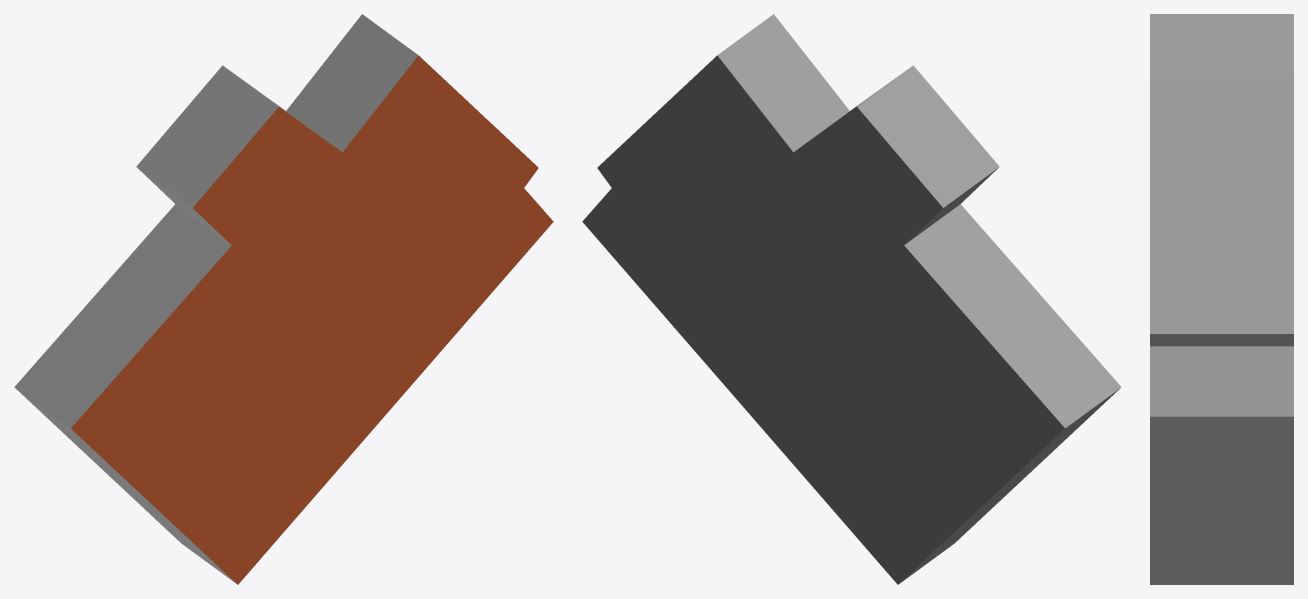
Rendered from construction_2008_assumed_A_Casa_h6m.obj.
3 views of the same model, side by side, from view 1: azimuth 30°, elevation 25°; view 2: azimuth 150°, elevation 25°; view 3: azimuth 270°, elevation 25° (orthographic). The views are drawn at different scales.
Parts seen in each view (by area): view 1: construction_2008_assumed_A_Casa; view 2: construction_2008_assumed_A_Casa; view 3: construction_2008_assumed_A_Casa.
Boxes of the visible parts, bbox=[...] form: construction_2008_assumed_A_Casa: bbox=[14, 14, 553, 584]; construction_2008_assumed_A_Casa: bbox=[582, 14, 1121, 584]; construction_2008_assumed_A_Casa: bbox=[1150, 14, 1293, 584].
Size of the model in its own units: 29.62 by 28.46 by 6.
